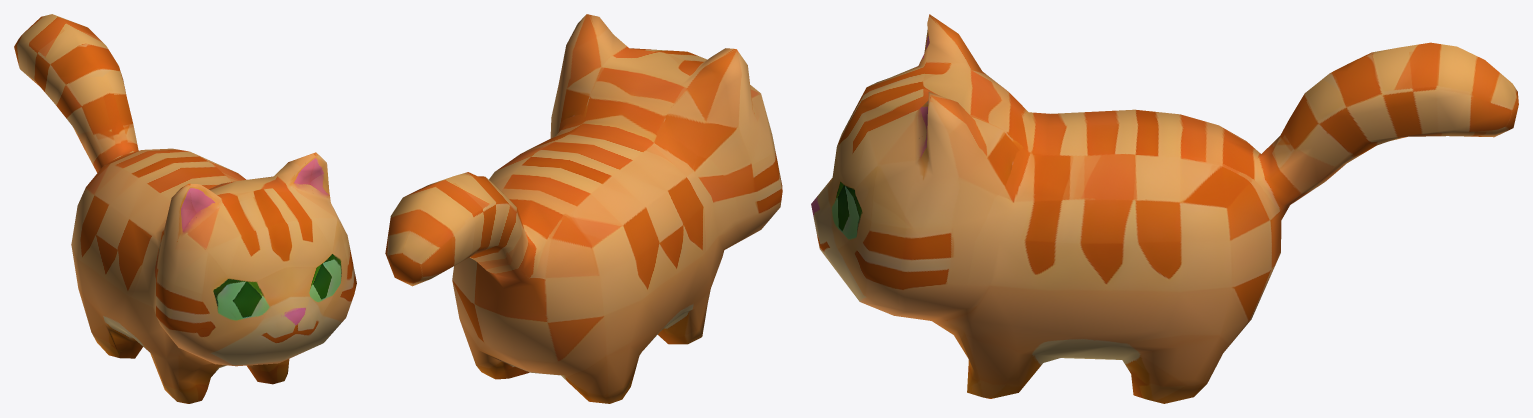
The model's file is tabby-cat-ultra350.glb.
3 views of the same model, side by side, from view 1: azimuth 30°, elevation 25°; view 2: azimuth 150°, elevation 25°; view 3: azimuth 270°, elevation 25° (orthographic). The views are drawn at different scales.
Parts seen in each view (by area): view 1: material; view 2: material; view 3: material.
Boxes of the visible parts, x1,y1,x2,y2 form: material: [14, 14, 356, 403]; material: [385, 14, 782, 403]; material: [811, 14, 1518, 403].
Bounding box in the file's own units: 0.4515 × 0.5801 × 1.12.
1 material, 1 textured.
